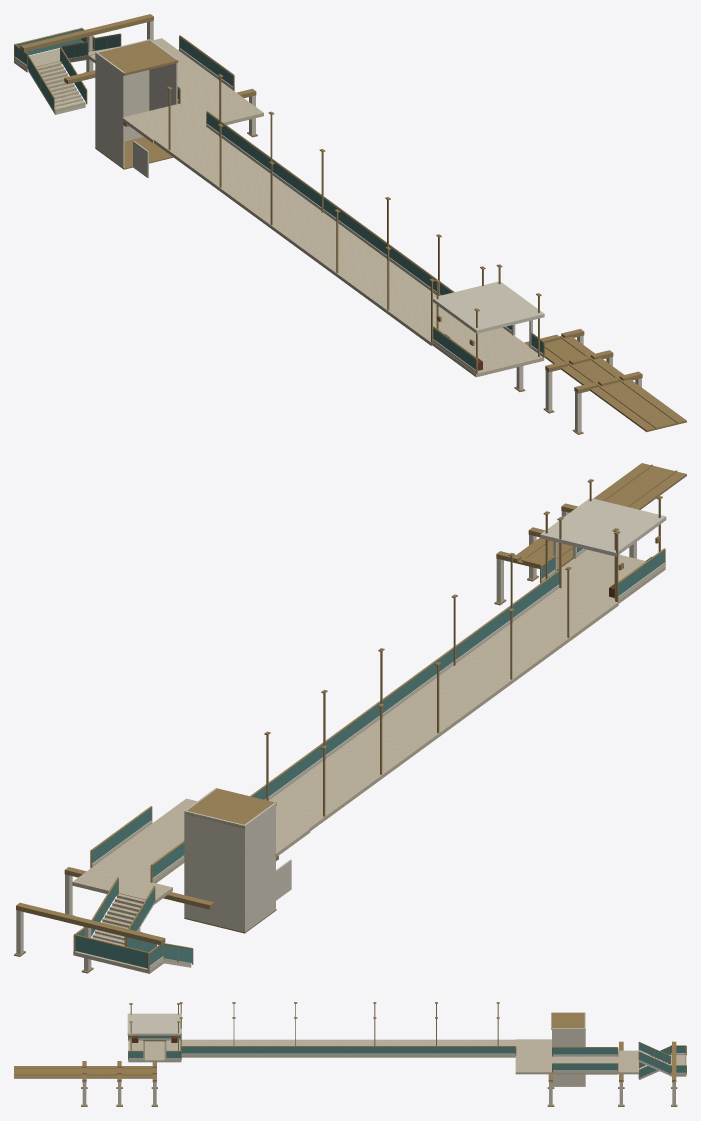
The model's file is AST-TRM-G4-005_central_source.glb.
3 views of the same model, one above another, from view 1: azimuth 30°, elevation 25°; view 2: azimuth 150°, elevation 25°; view 3: azimuth 270°, elevation 25° (orthographic). The views are drawn at different scales.
Parts seen in each view (by area): view 1: CENTRAL__Upper_Port_CoreConnector, CENTRAL__Broad_LocalLanding, CENTRAL__LocalCanopy, CENTRAL__LiftHousingSide_-7.7, CENTRAL__Upper_Core_InnerGuard_infill, CENTRAL__Boarding_Pod, CENTRAL__LiftCap, CENTRAL__Stair_EastCabin_Bypass, CENTRAL__LiftHousingRear, CENTRAL__LiftHousingSide_-3.5, CENTRAL__GuidewayWeb_3, CENTRAL__GuidewayWeb_2 (+6 smaller); view 2: CENTRAL__Upper_Port_CoreConnector, CENTRAL__LiftHousingRear, CENTRAL__LocalCanopy, CENTRAL__Upper_Core_InnerGuard_infill, CENTRAL__LiftHousingSide_-7.7, CENTRAL__Stair_EastCabin_Bypass, CENTRAL__Boarding_Pod, CENTRAL__LiftCap, CENTRAL__GuidewayWeb_3, CENTRAL__Broad_LocalLanding, CENTRAL__AnnexCrossbearer_0, CENTRAL__Upper_Core_InnerGuard_foot (+5 smaller); view 3: CENTRAL__Upper_Port_CoreConnector, CENTRAL__Upper_Core_InnerGuard_infill, CENTRAL__Broad_LocalLanding, CENTRAL__LocalCanopy, CENTRAL__LiftHousingSide_-3.5, CENTRAL__Upper_Core_InnerGuard_foot, CENTRAL__Boarding_Pod, CENTRAL__Stair_EastCabin_Bypass, CENTRAL__Return_Inner_infill, CENTRAL__LiftCap, CENTRAL__Stair_BroadReturn, CENTRAL__GuidewayWeb_3 (+10 smaller).
Boxes of the visible parts, left/top/right/bottom form: CENTRAL__Upper_Port_CoreConnector: left=154, top=127, right=473, bottom=345; CENTRAL__Broad_LocalLanding: left=122, top=90, right=263, bottom=142; CENTRAL__LocalCanopy: left=432, top=281, right=544, bottom=333; CENTRAL__LiftHousingSide_-7.7: left=96, top=52, right=124, bottom=167; CENTRAL__Upper_Core_InnerGuard_infill: left=207, top=113, right=452, bottom=295; CENTRAL__Boarding_Pod: left=432, top=327, right=544, bottom=377; CENTRAL__LiftCap: left=95, top=40, right=178, bottom=75; CENTRAL__Stair_EastCabin_Bypass: left=170, top=51, right=234, bottom=103; CENTRAL__LiftHousingRear: left=95, top=39, right=149, bottom=147; CENTRAL__LiftHousingSide_-3.5: left=149, top=39, right=177, bottom=110; CENTRAL__GuidewayWeb_3: left=617, top=399, right=686, bottom=432; CENTRAL__GuidewayWeb_2: left=590, top=379, right=657, bottom=410; CENTRAL__Upper_Port_CoreConnector: left=269, top=588, right=618, bottom=830; CENTRAL__LiftHousingRear: left=184, top=810, right=245, bottom=932; CENTRAL__LocalCanopy: left=540, top=498, right=666, bottom=556; CENTRAL__Upper_Core_InnerGuard_infill: left=252, top=572, right=558, bottom=799; CENTRAL__LiftHousingSide_-7.7: left=244, top=803, right=275, bottom=931; CENTRAL__Stair_EastCabin_Bypass: left=90, top=823, right=184, bottom=883; CENTRAL__Boarding_Pod: left=561, top=549, right=665, bottom=603; CENTRAL__LiftCap: left=185, top=788, right=276, bottom=828; CENTRAL__GuidewayWeb_3: left=609, top=463, right=686, bottom=499; CENTRAL__Broad_LocalLanding: left=152, top=798, right=310, bottom=857; CENTRAL__AnnexCrossbearer_0: left=16, top=902, right=165, bottom=945; CENTRAL__Upper_Core_InnerGuard_foot: left=265, top=584, right=559, bottom=800; CENTRAL__Upper_Port_CoreConnector: left=181, top=1039, right=515, bottom=1057; CENTRAL__Upper_Core_InnerGuard_infill: left=181, top=1047, right=515, bottom=1053; CENTRAL__Broad_LocalLanding: left=515, top=1039, right=552, bottom=1074; CENTRAL__LocalCanopy: left=127, top=1013, right=181, bottom=1035; CENTRAL__LiftHousingSide_-3.5: left=552, top=1028, right=584, bottom=1085; CENTRAL__Upper_Core_InnerGuard_foot: left=181, top=1053, right=515, bottom=1055; CENTRAL__Boarding_Pod: left=128, top=1040, right=181, bottom=1062; CENTRAL__Stair_EastCabin_Bypass: left=552, top=1056, right=617, bottom=1074; CENTRAL__Return_Inner_infill: left=553, top=1063, right=617, bottom=1070; CENTRAL__LiftCap: left=551, top=1012, right=585, bottom=1029; CENTRAL__Stair_BroadReturn: left=617, top=1050, right=638, bottom=1074; CENTRAL__GuidewayWeb_3: left=14, top=1066, right=49, bottom=1078.
Size of the model in its own units: 10.41 by 8.63 by 76.46.
6 materials, 4 textured.
